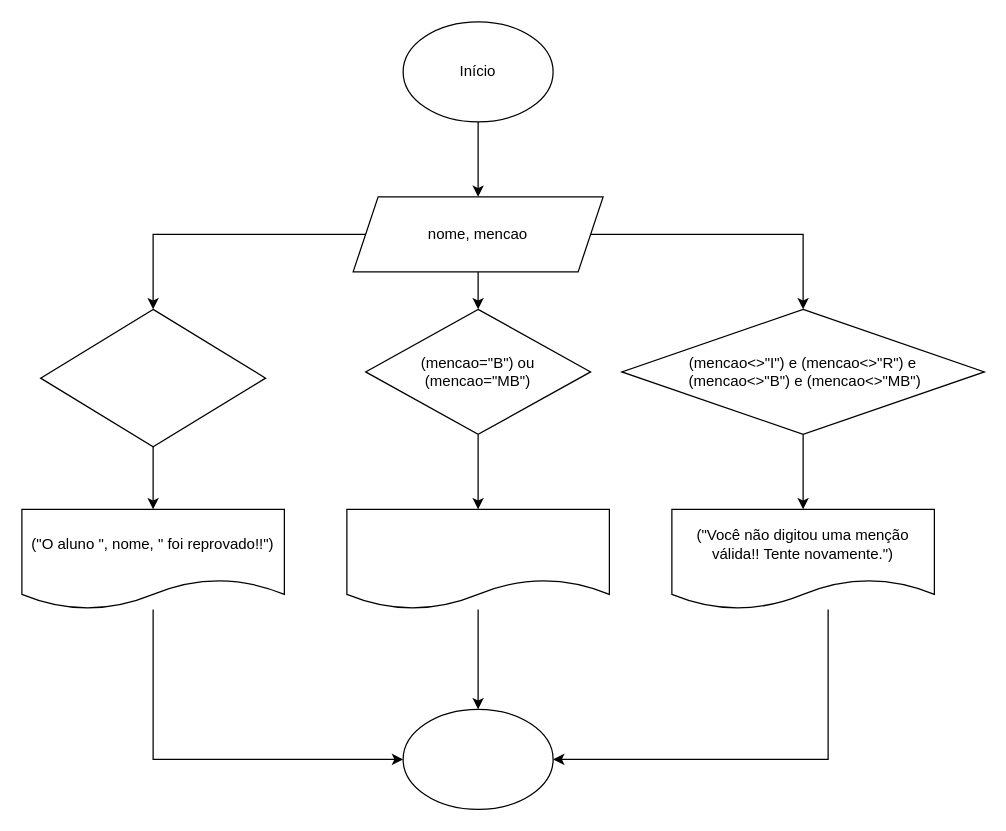
Image size: 1006x831. Some labels were removed from this diagram. The centre of each missing label's shape, as x and y in pixels:
("O aluno ", nome, " foi aprovado!!"): pixel 477 558
(mencao="I") ou (mencao="R"): pixel 152 377
Fim: pixel 477 758
